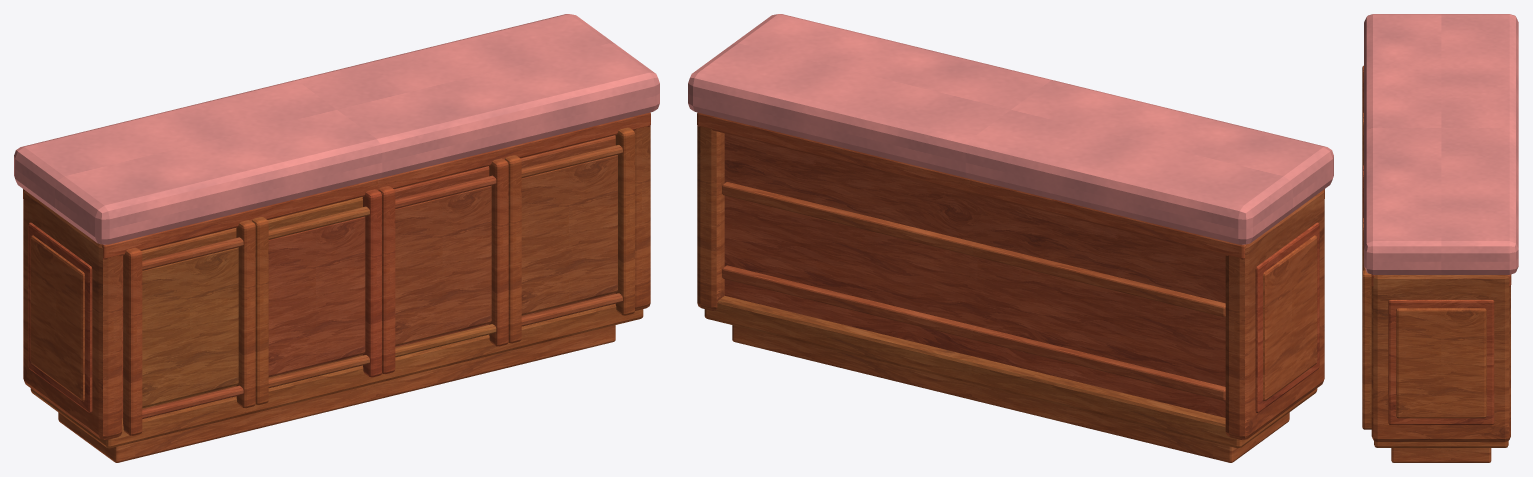
Rendered from WC_CAFE_Counter_Straight_A.glb.
The picture shows the model from 3 angles, left to right: view 1: azimuth 30°, elevation 25°; view 2: azimuth 150°, elevation 25°; view 3: azimuth 270°, elevation 25°; orthographic projection. The views are drawn at different scales.
Parts seen in each view (by area): view 1: WC_CAFE_Counter_Straight_A_DesignedMesh; view 2: WC_CAFE_Counter_Straight_A_DesignedMesh; view 3: WC_CAFE_Counter_Straight_A_DesignedMesh.
Boxes of the visible parts, x1,y1,x2,y2 form: WC_CAFE_Counter_Straight_A_DesignedMesh: [14, 14, 659, 462]; WC_CAFE_Counter_Straight_A_DesignedMesh: [688, 14, 1333, 462]; WC_CAFE_Counter_Straight_A_DesignedMesh: [1362, 14, 1518, 462].
Size of the model in its own units: 2.33 by 1.08 by 0.6575.
Materials: 4 (4 with a texture image).
